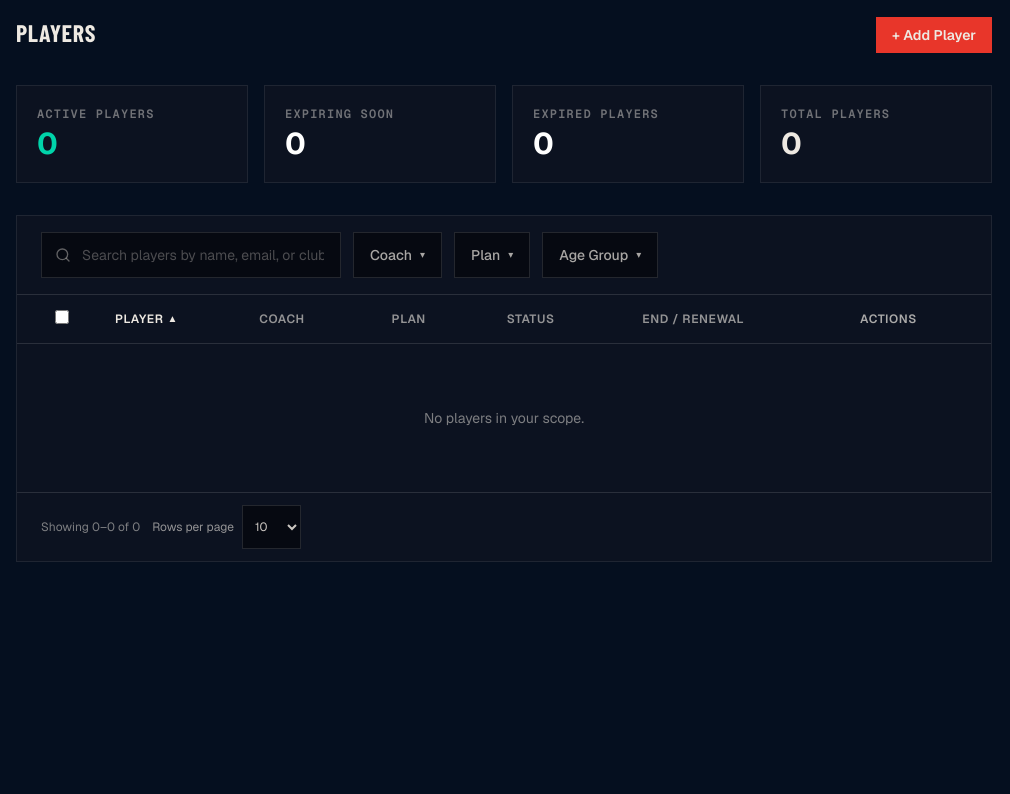
Test: PlayersClient › an academy_admin can add a player directly from /players, onto their own academy
The image size is (1010, 794).
Check: the text "No players in your scope." is shown, box [424,409,584,427]
Click the button "+ Add Player": x=934, y=35 [876,17,992,53]
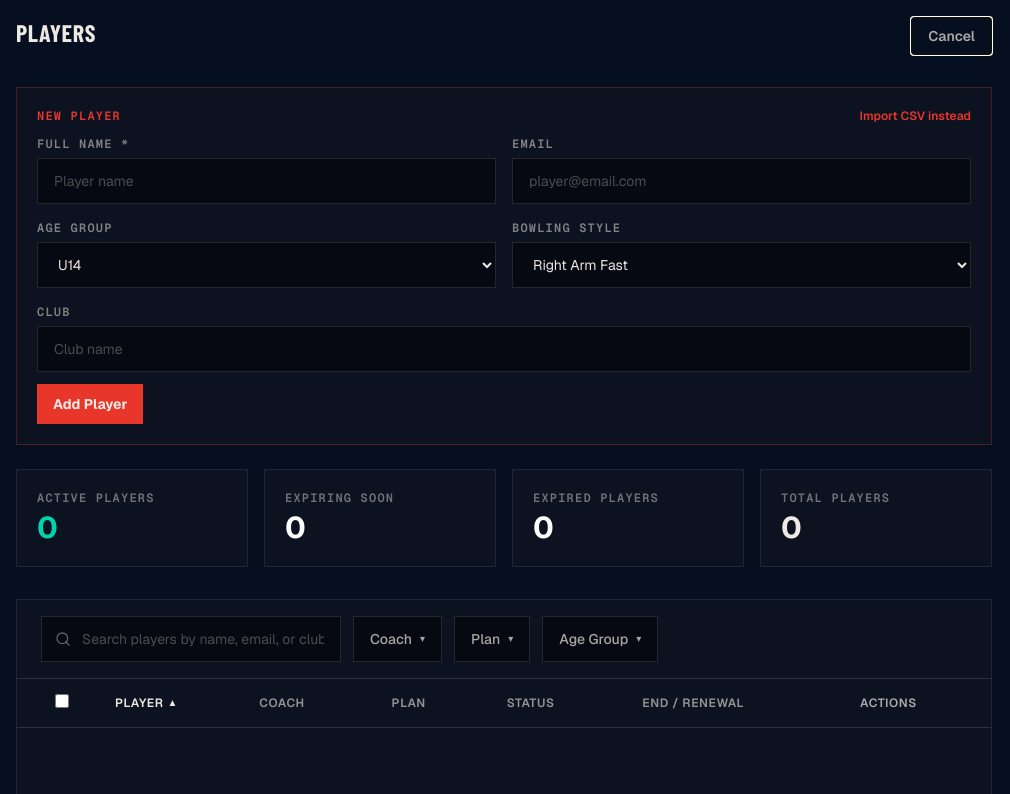
In the field with placeholder "Player name": x=266, y=181 [37,158,496,204], type "New Kid"
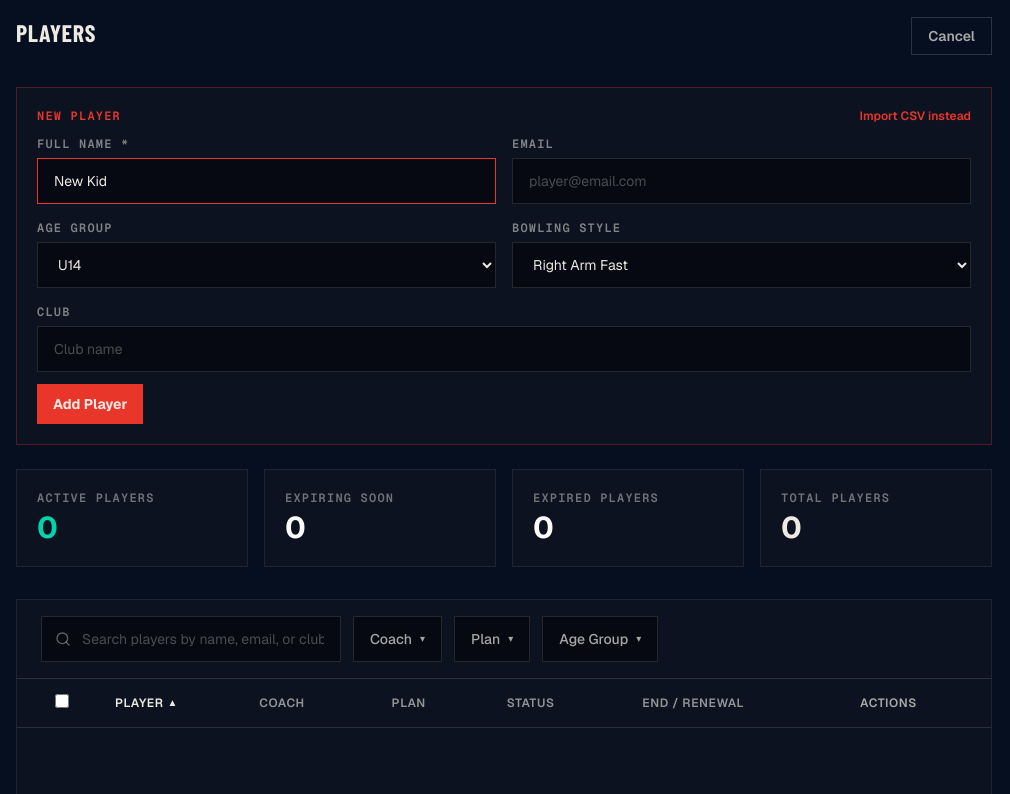
Click the button "Add Player": x=90, y=404 [37,384,143,424]
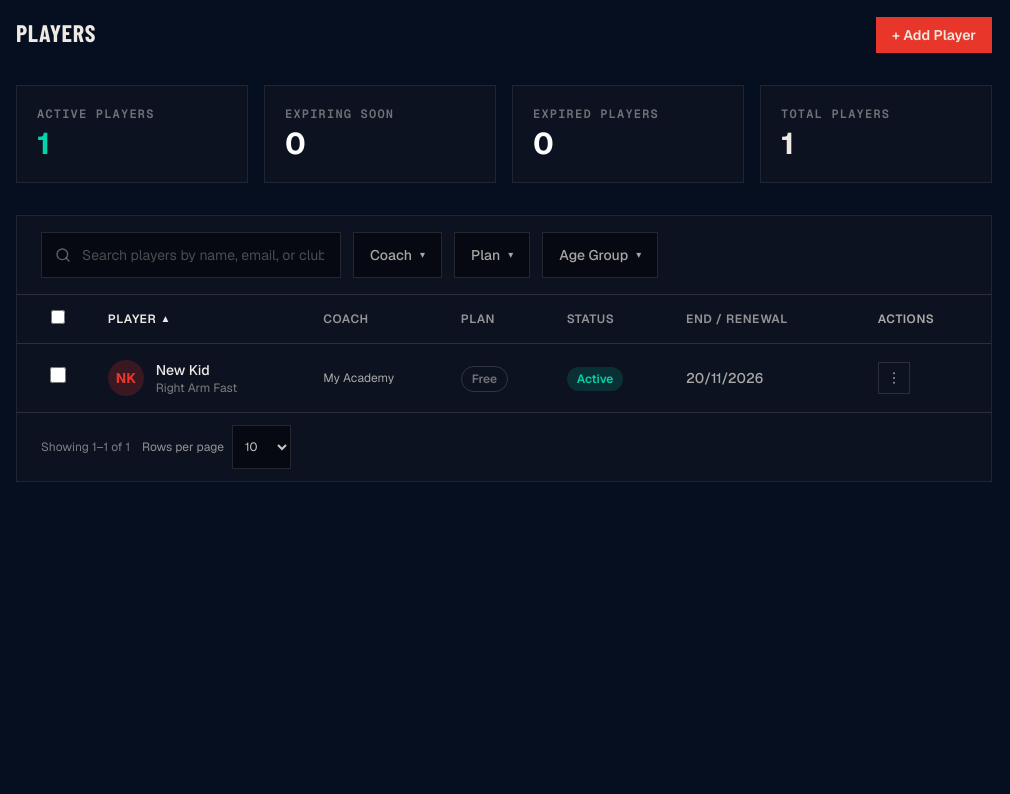
Check: the text "New Kid" is shown, box [156,361,210,379]
